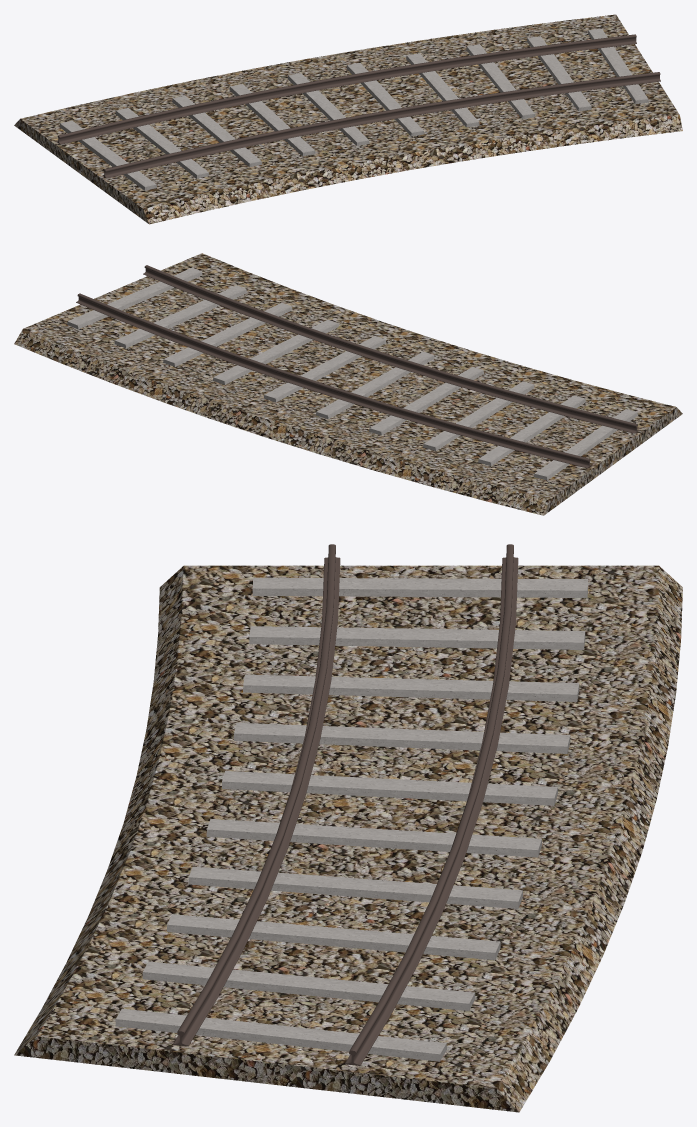
The model's file is sweethome3d-scopia-railroad-curve-10m.glb.
3 renders of one model, top to bottom at view 1: azimuth 30°, elevation 25°; view 2: azimuth 150°, elevation 25°; view 3: azimuth 270°, elevation 25°, orthographic. The views are drawn at different scales.
Visible parts, largest first — view 1: ballas10m15degres_Plane.003, curve10m15degres_Point.002, traverse10m15degres_Cube.002; view 2: ballas10m15degres_Plane.003, traverse10m15degres_Cube.002, curve10m15degres_Point.002; view 3: ballas10m15degres_Plane.003, traverse10m15degres_Cube.002, curve10m15degres_Point.002.
Boxes of the visible parts, bbox=[...] form: ballas10m15degres_Plane.003: bbox=[14, 14, 682, 224]; curve10m15degres_Point.002: bbox=[56, 34, 660, 178]; traverse10m15degres_Cube.002: bbox=[59, 28, 648, 190]; ballas10m15degres_Plane.003: bbox=[14, 253, 682, 515]; traverse10m15degres_Cube.002: bbox=[67, 267, 637, 480]; curve10m15degres_Point.002: bbox=[76, 265, 638, 468]; ballas10m15degres_Plane.003: bbox=[14, 565, 682, 1112]; traverse10m15degres_Cube.002: bbox=[115, 577, 587, 1061]; curve10m15degres_Point.002: bbox=[173, 544, 518, 1065].
Bounding box in the file's own units: 1045 × 39.86 × 563.
3 materials, 2 textured.
